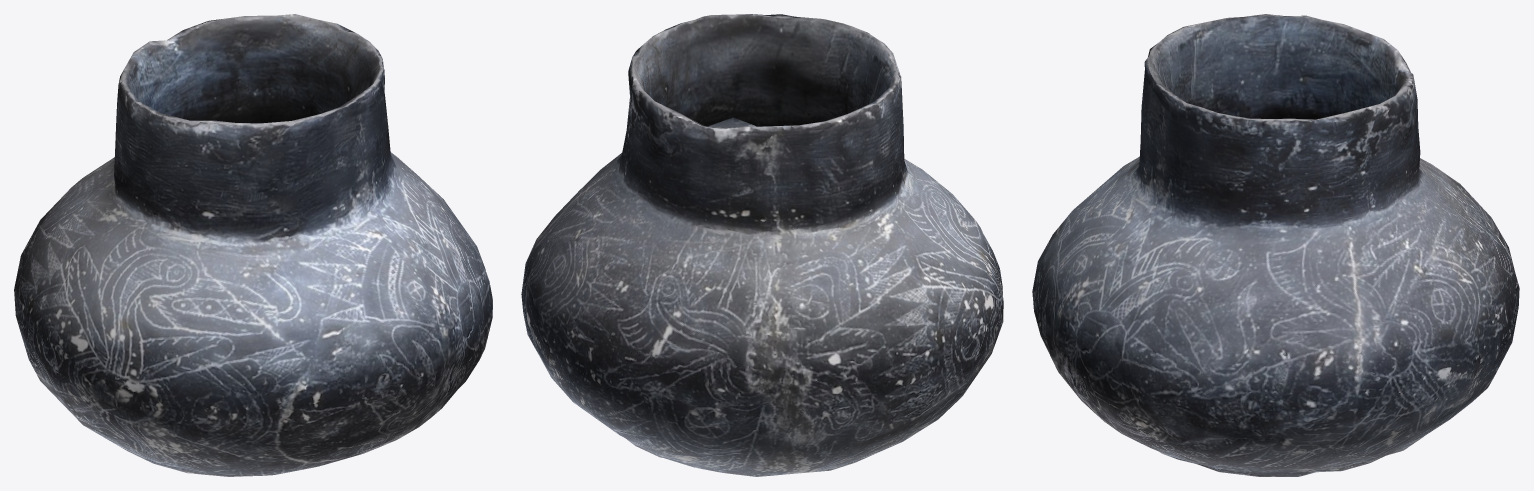
Rendered from moundville.glb.
The picture shows the model from 3 angles, left to right: view 1: azimuth 30°, elevation 25°; view 2: azimuth 150°, elevation 25°; view 3: azimuth 270°, elevation 25°; orthographic projection.
Bounding box in the file's own units: 0.1549 × 0.129 × 0.1557.
Materials: 1 (1 with a texture image).
